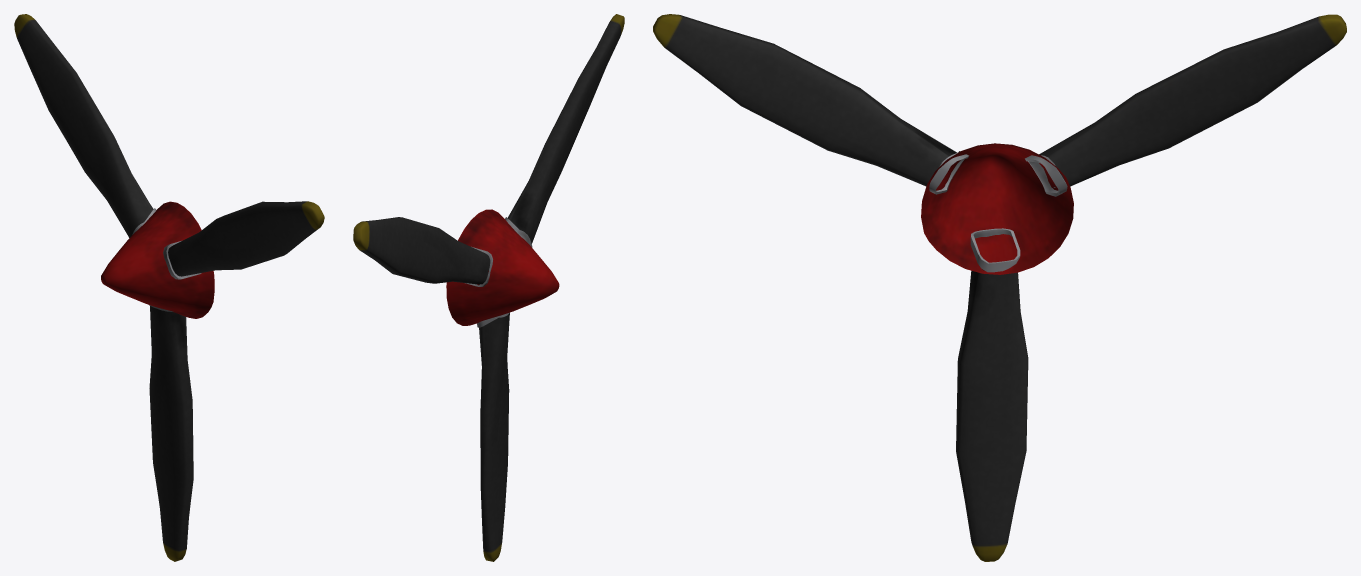
File: propeller (2).glb
3 views of the same model, side by side, from view 1: azimuth 30°, elevation 25°; view 2: azimuth 150°, elevation 25°; view 3: azimuth 270°, elevation 25° (orthographic). The views are drawn at different scales.
Visible parts, largest first — view 1: Object_2.001; view 2: Object_2.001; view 3: Object_2.001.
Boxes of the visible parts, x1,y1,x2,y2 form: Object_2.001: (14,14,324,561); Object_2.001: (353,14,624,561); Object_2.001: (653,14,1346,561).
Size of the model in its own units: 0.9794 by 5.17 by 5.93.
Materials: 1 (1 with a texture image).
